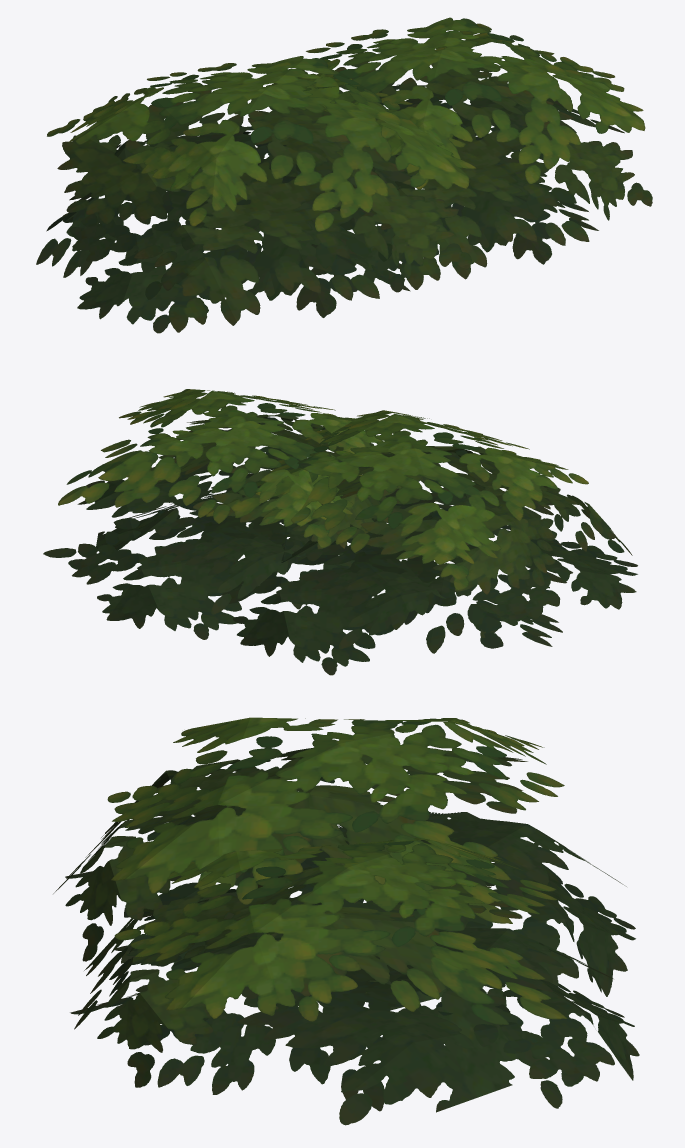
The model's file is h5_caocong.FBX.
The picture shows the model from 3 angles, top to bottom: view 1: azimuth 30°, elevation 25°; view 2: azimuth 150°, elevation 25°; view 3: azimuth 270°, elevation 25°; orthographic projection. The views are drawn at different scales.
Parts seen in each view (by area): view 1: h5_caocong; view 2: h5_caocong; view 3: h5_caocong.
Boxes of the visible parts, x1,y1,x2,y2 form: h5_caocong: (36, 17, 652, 333); h5_caocong: (43, 389, 637, 675); h5_caocong: (53, 717, 639, 1125).
Size of the model in its own units: 2.46 by 0.6642 by 1.91.
